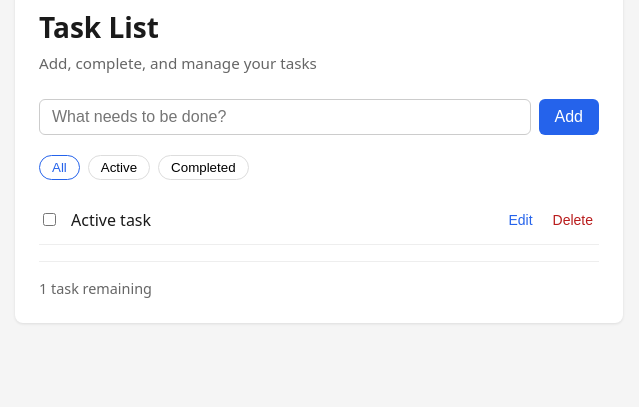
Test: App › shows an error when editing a task fails
Expected: the text "Active task" is shown, [71, 209, 151, 231]
Click the button "Edit". click: {"x": 520, "y": 220}
box: [502, 211, 538, 229]
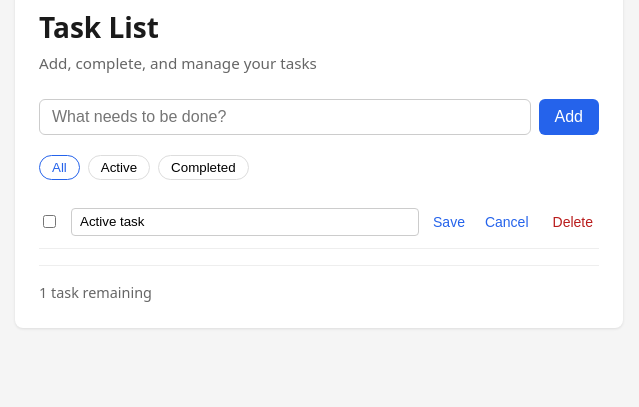
Replace the text in the field named "Edit task title" with "Broken edit". click: {"x": 245, "y": 222}
box: [71, 208, 419, 236]
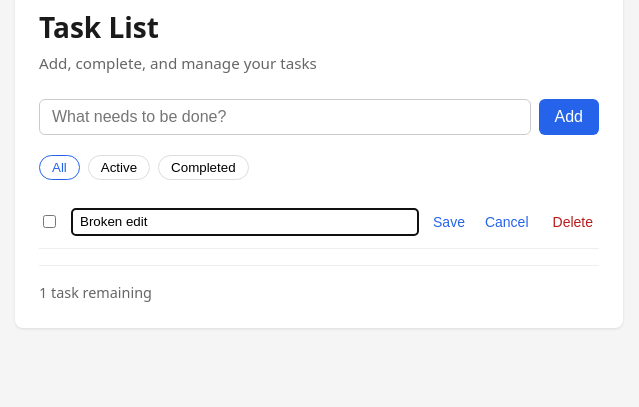
Click the button "Save". click: {"x": 449, "y": 222}
box: [427, 213, 471, 231]
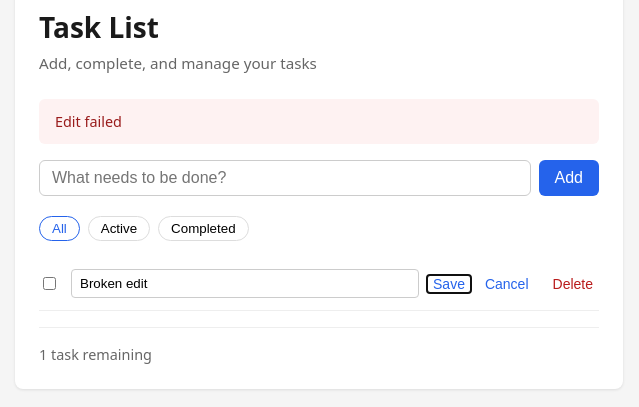
Now the message reads "Edit failed", box [55, 112, 122, 131]
